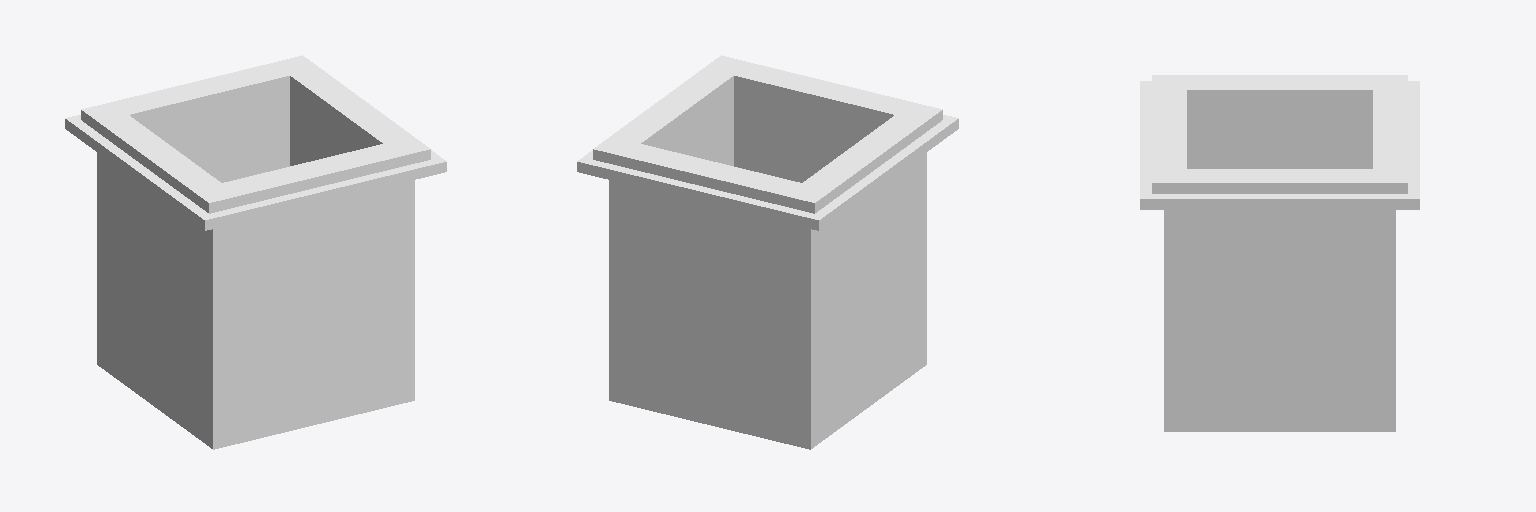
File: TrashCan.obj
The picture shows the model from 3 angles: view 1: azimuth 30°, elevation 25°; view 2: azimuth 150°, elevation 25°; view 3: azimuth 270°, elevation 25°; orthographic projection.
Bounding box in the file's own units: 24 × 24 × 24.